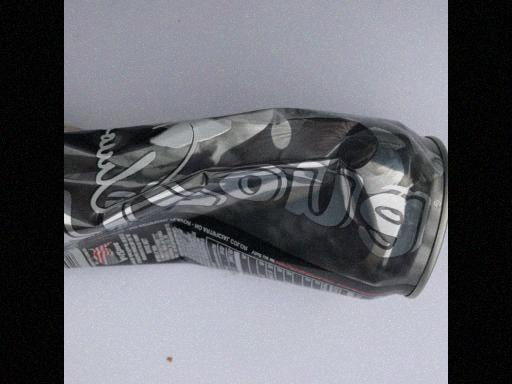metal: (72, 108, 445, 298)
